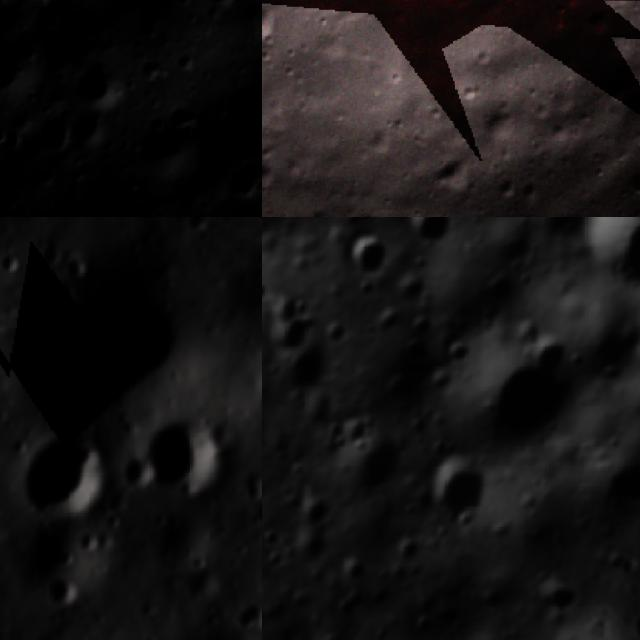crater: (452, 311, 609, 471), (4, 418, 123, 536), (140, 407, 242, 510), (408, 442, 504, 548), (266, 325, 346, 416), (0, 0, 48, 133), (341, 424, 417, 503), (262, 284, 327, 370), (337, 220, 409, 294), (75, 51, 138, 118), (31, 108, 93, 166), (428, 141, 484, 200), (290, 479, 344, 536), (538, 570, 592, 620), (218, 148, 262, 209), (574, 0, 626, 46), (405, 217, 461, 257), (318, 217, 405, 241), (332, 555, 375, 595), (388, 530, 429, 571), (262, 0, 291, 52), (59, 250, 98, 287), (50, 572, 87, 610), (618, 155, 640, 209), (236, 463, 262, 507), (406, 608, 440, 640), (0, 247, 28, 281), (239, 598, 262, 635), (262, 520, 287, 553), (265, 544, 289, 572), (370, 204, 412, 217)
